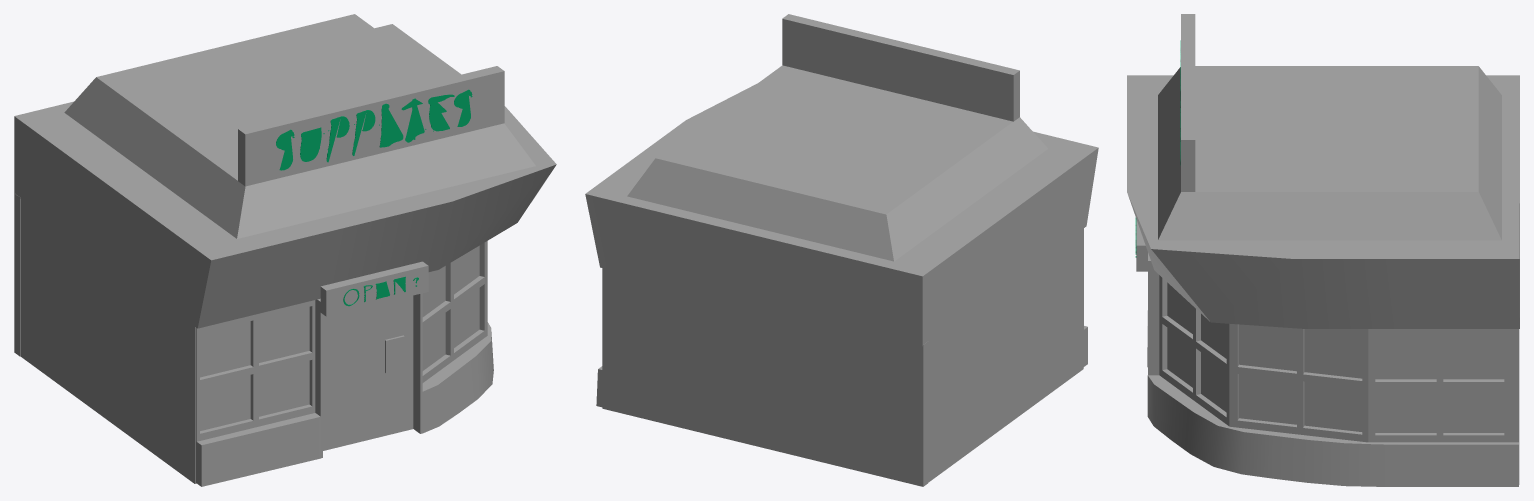
Rendered from HorrorStore.fbx.
The picture shows the model from 3 angles, left to right: view 1: azimuth 30°, elevation 25°; view 2: azimuth 150°, elevation 25°; view 3: azimuth 270°, elevation 25°; orthographic projection. The views are drawn at different scales.
Visible parts, largest first — view 1: pCube6, pCube7, pCube9, polySurface7, pCube10, pCube11, polySurface1, polySurface6, typeMesh1, pCube13, polySurface8, pCube8 (+1 smaller); view 2: pCube7, pCube6, pCube8, pCube9, pCube10; view 3: pCube7, pCube6, polySurface1, polySurface4, polySurface5, polySurface6, pCube10, polySurface8, pCube8, pCube13.
Part boxes in pixels (x1,y1,x2,y2): pCube6: [14, 24, 556, 328]; pCube7: [64, 14, 535, 238]; pCube9: [20, 199, 196, 483]; polySurface7: [195, 300, 315, 441]; pCube10: [238, 66, 504, 186]; pCube11: [323, 295, 413, 450]; polySurface1: [195, 322, 493, 486]; polySurface6: [422, 241, 487, 382]; typeMesh1: [276, 89, 472, 170]; pCube13: [320, 261, 428, 316]; polySurface8: [315, 293, 422, 458]; pCube8: [14, 193, 20, 356]; pCube7: [627, 65, 1047, 261]; pCube6: [585, 84, 1098, 346]; pCube8: [602, 268, 928, 486]; pCube9: [928, 229, 1083, 482]; pCube10: [782, 14, 1019, 121]; pCube7: [1158, 66, 1501, 240]; pCube6: [1127, 75, 1519, 328]; polySurface1: [1147, 310, 1518, 486]; polySurface4: [1368, 329, 1511, 442]; polySurface5: [1230, 324, 1368, 442]; polySurface6: [1159, 275, 1229, 426]; pCube10: [1181, 14, 1195, 191]; polySurface8: [1148, 253, 1159, 375]; pCube8: [1511, 329, 1519, 484]; pCube13: [1136, 219, 1147, 271].
Bounding box in the file's own units: 15.18 × 12.55 × 13.7.
